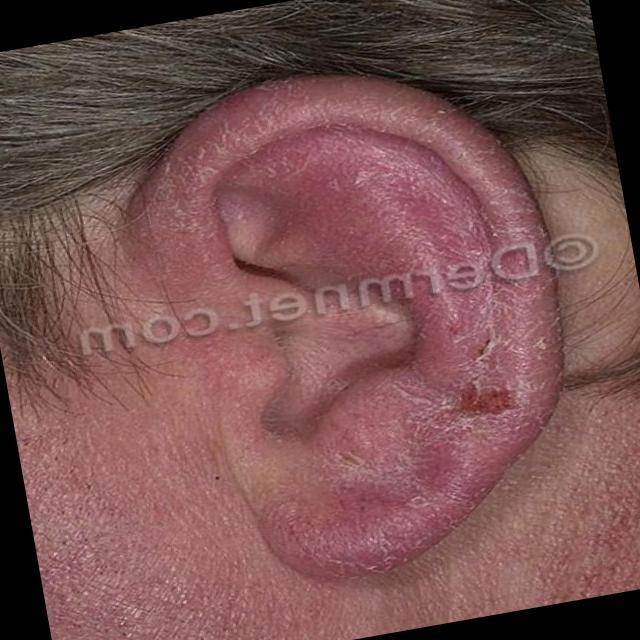Eczema: (178, 87, 546, 564)
